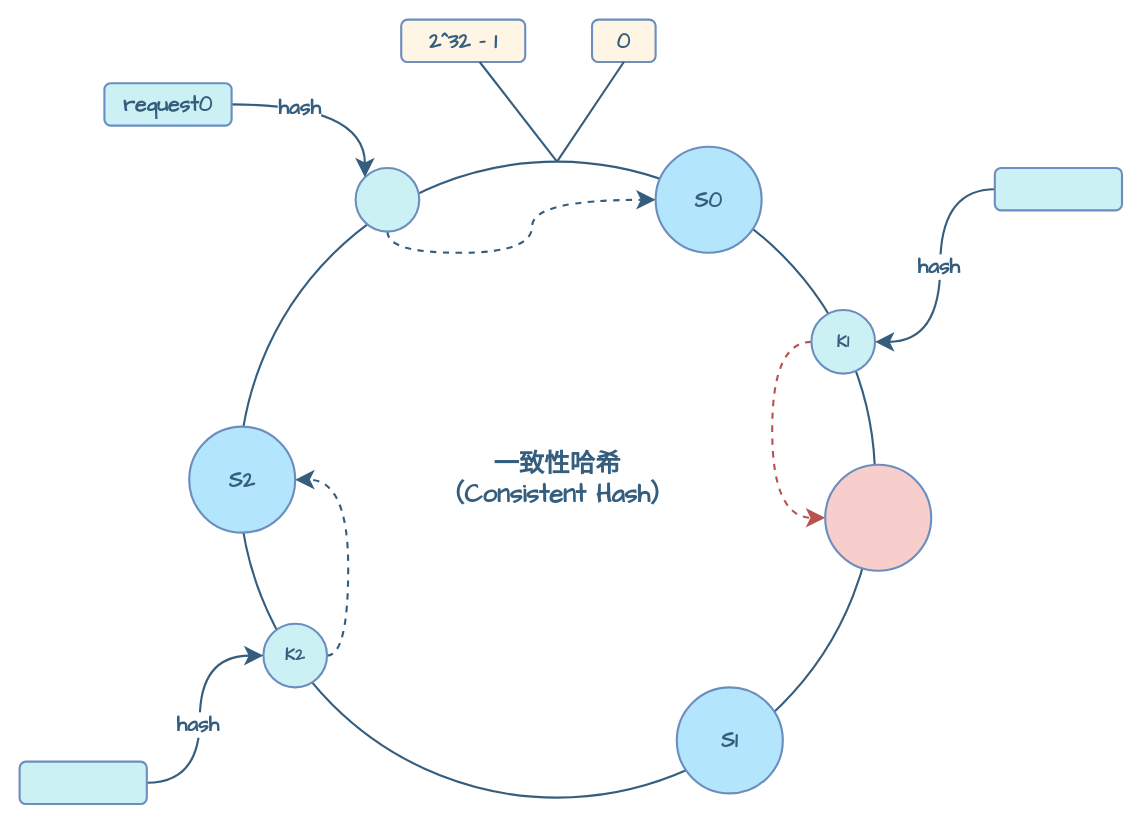
Some shapes in this 1141 by 823 pixel diagram are drawn without their labels. The centre of each missing label's shape, as x and y in pixels:
"K0" goes at pixel 387 199.
"request1" goes at pixel 1058 188.
"request2" goes at pixel 82 782.
"S4" goes at pixel 878 517.
